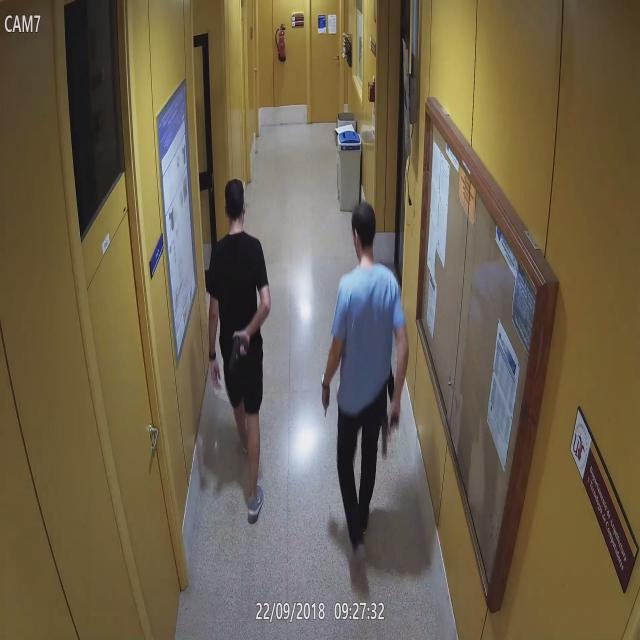Gun: (380, 404, 400, 460), (226, 336, 250, 370)
